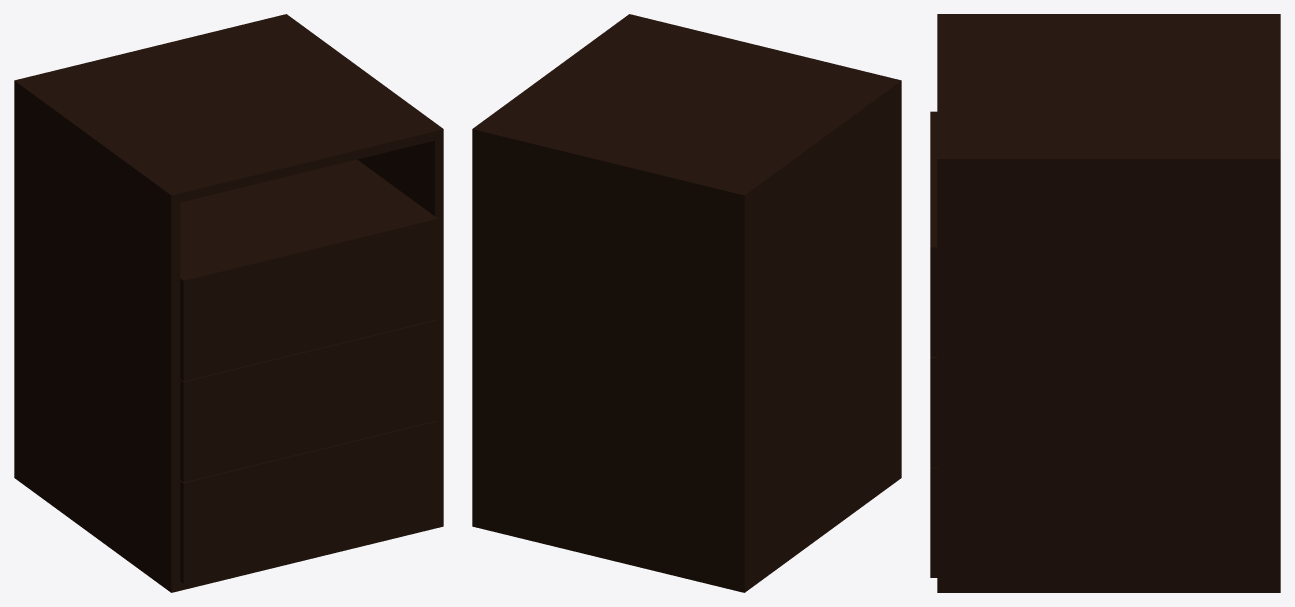
The model's file is TUMBA1.glb.
3 views of the same model, side by side, from view 1: azimuth 30°, elevation 25°; view 2: azimuth 150°, elevation 25°; view 3: azimuth 270°, elevation 25° (orthographic). The views are drawn at different scales.
Visible parts, largest first — view 1: Cube.003; view 2: Cube.003; view 3: Cube.003.
Boxes of the visible parts, x1,y1,x2,y2 form: Cube.003: (14, 14, 443, 592); Cube.003: (472, 14, 901, 592); Cube.003: (930, 14, 1280, 592).
Size of the model in its own units: 0.47 by 0.6554 by 0.4797.
